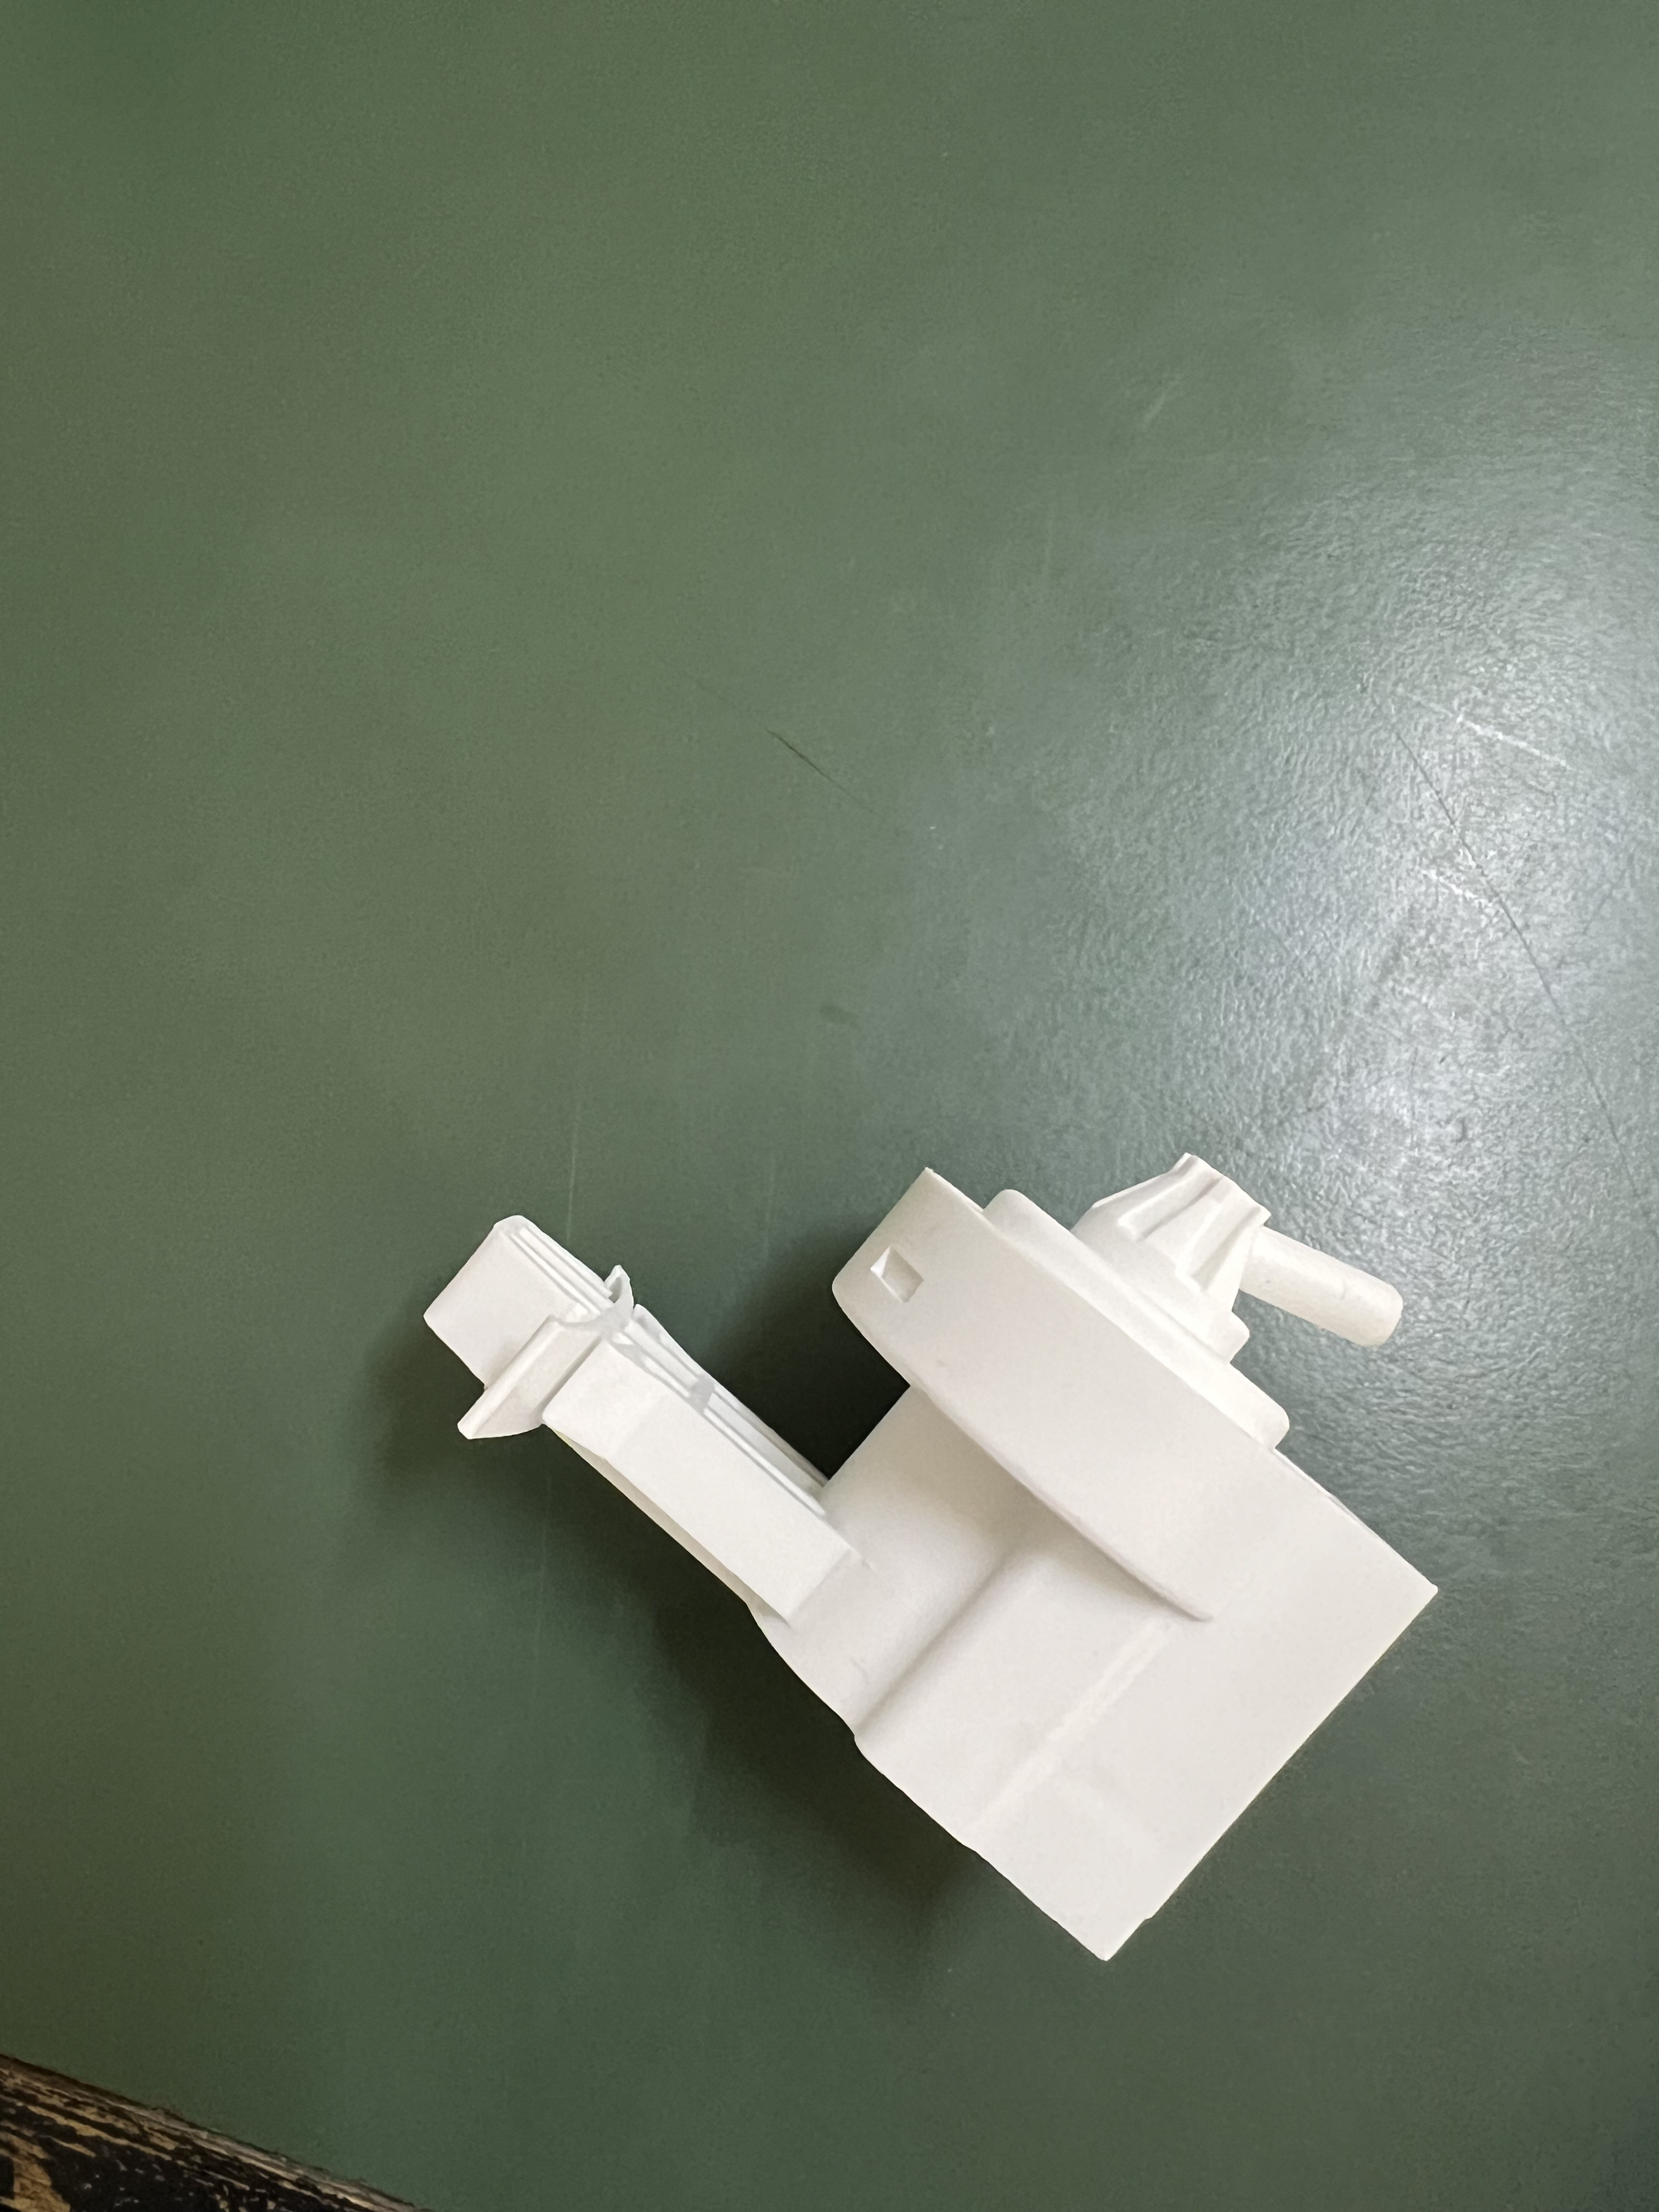pressure_switch_1: (420, 1139, 1441, 1946)
